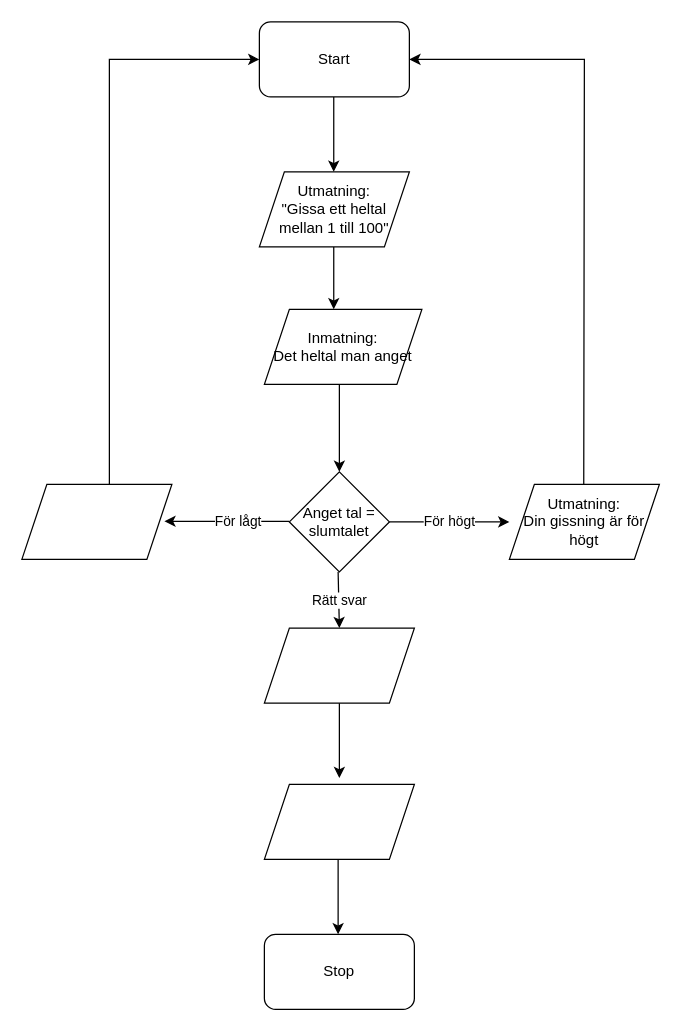
This 681x1031 diagram has some shape labels left out. Here are the shapes that lost their labels. From the top down, the centre of each, then its label:
(96,521): Utmatning: Din gissning är för lågt
(338,665): Utmatning: Du har gissat rätt slumptal!
(338,821): Utmatning: Antal gissningar till det rätta svaret
